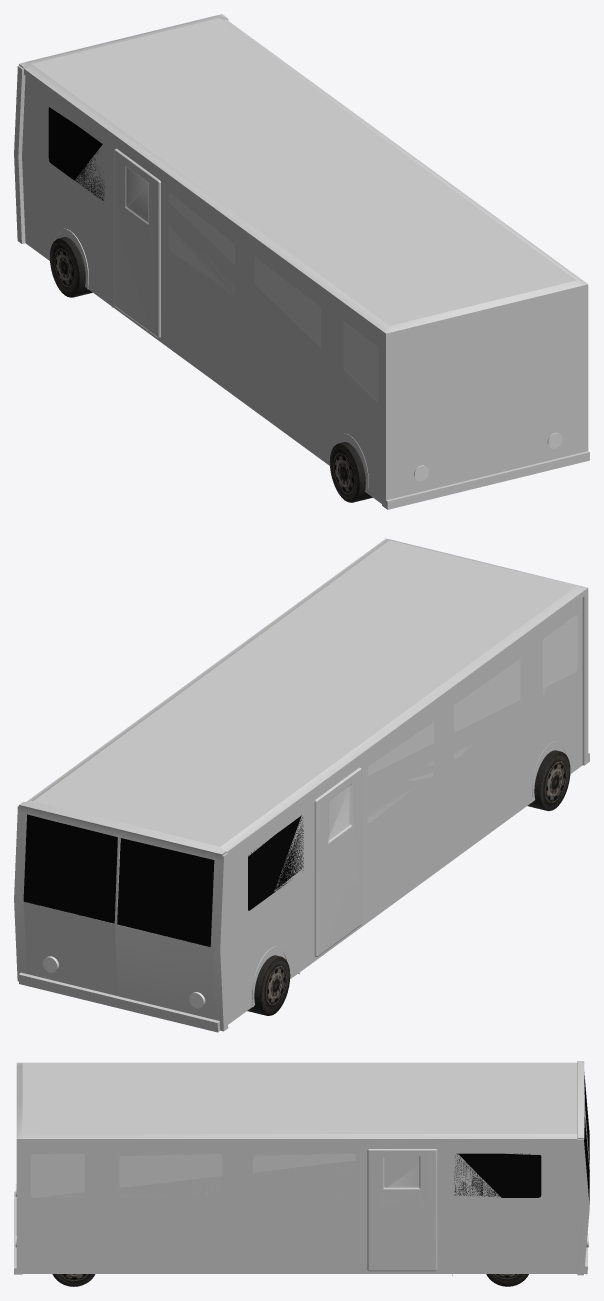
The model's file is BUSTEST.fbx.
3 views of the same model, one above another, from view 1: azimuth 30°, elevation 25°; view 2: azimuth 150°, elevation 25°; view 3: azimuth 270°, elevation 25° (orthographic). The views are drawn at different scales.
Parts seen in each view (by area): view 1: HideTire.003, Cube.001, Tires.001, Tires; view 2: HideTire.003, Cube.001, Tires.001, Tires; view 3: HideTire.003, Cube, Tires.001, Tires.
Boxes of the visible parts, x1=… form: HideTire.003: x1=14, y1=14, x2=589, y2=509; Cube.001: x1=114, y1=148, x2=160, y2=338; Tires.001: x1=329, y1=442, x2=372, y2=502; Tires: x1=50, y1=237, x2=92, y2=297; HideTire.003: x1=14, y1=538, x2=589, y2=1032; Cube.001: x1=314, y1=767, x2=361, y2=957; Tires.001: x1=527, y1=750, x2=570, y2=811; Tires: x1=247, y1=955, x2=290, y2=1015; HideTire.003: x1=14, y1=1061, x2=589, y2=1275; Cube: x1=367, y1=1149, x2=437, y2=1271; Tires.001: x1=52, y1=1274, x2=95, y2=1286; Tires: x1=486, y1=1274, x2=528, y2=1286.
Size of the model in its own units: 130 by 117 by 400.
